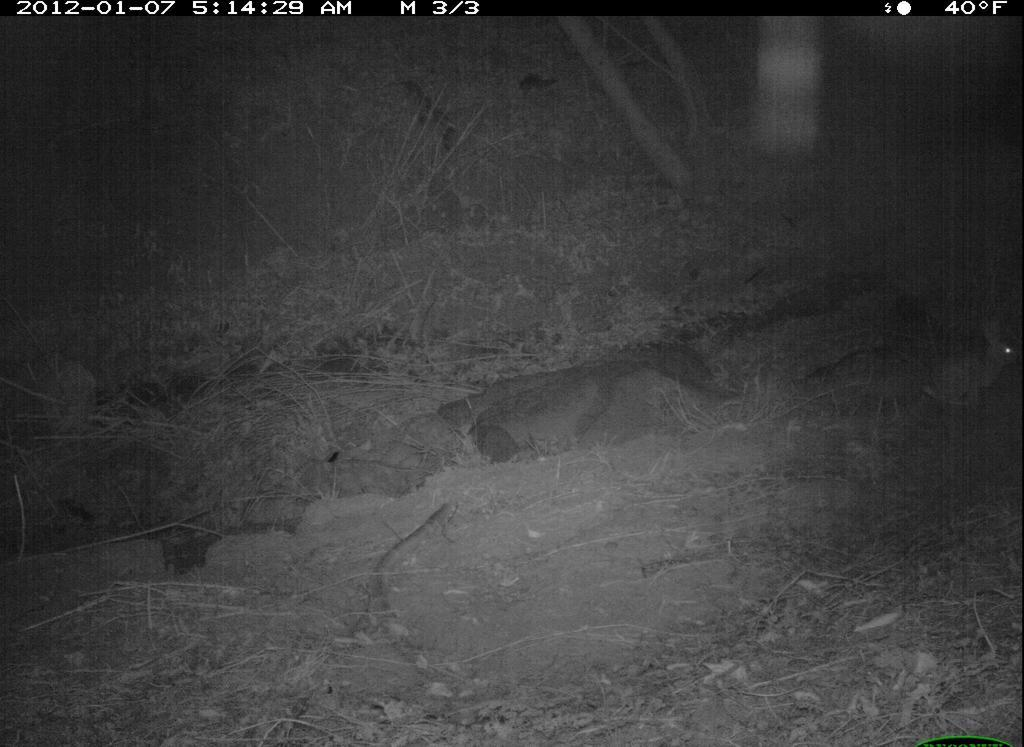rabbit: (912, 310, 1023, 422)
